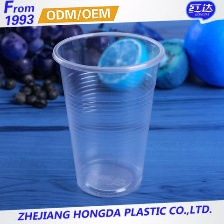glass: (45, 28, 175, 203)
